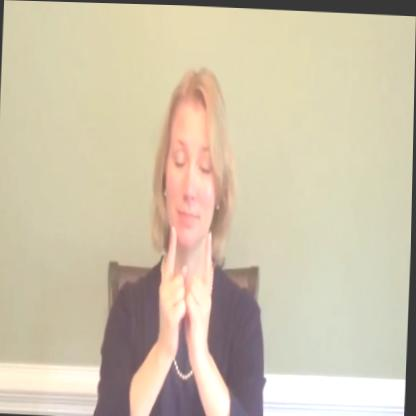NiceToMeetYou: (94, 57, 283, 416)
